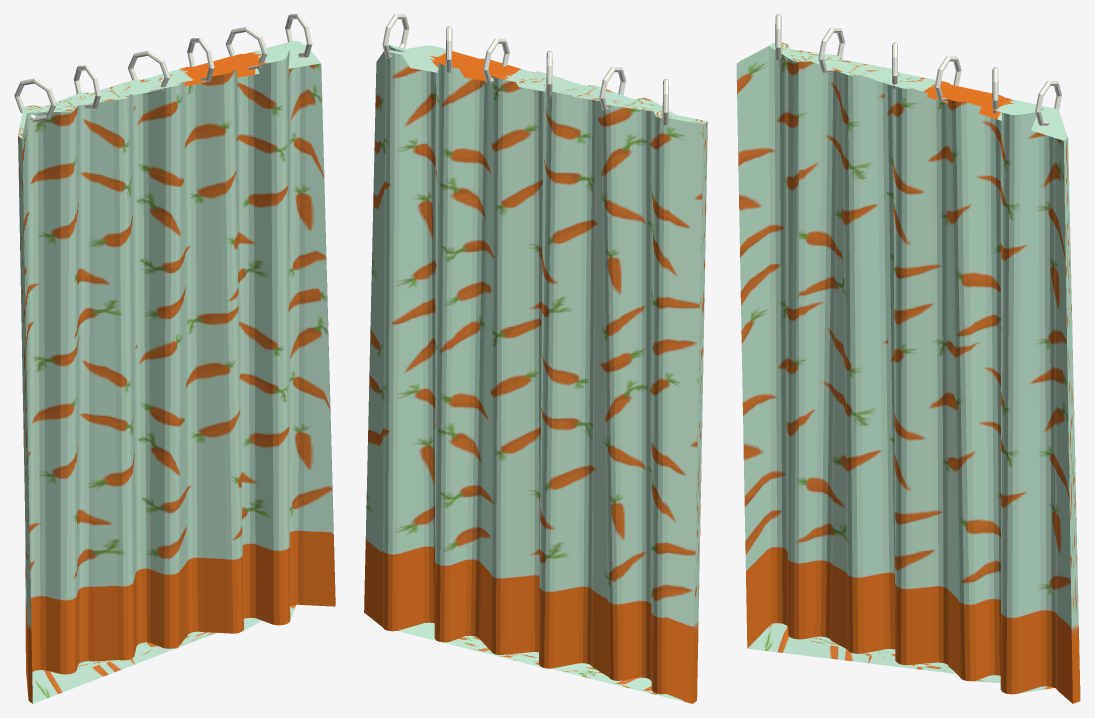
Rendered from perde1.fbx.
The picture shows the model from 3 angles, left to right: view 1: azimuth 30°, elevation 25°; view 2: azimuth 150°, elevation 25°; view 3: azimuth 330°, elevation 25°; orthographic projection. The views are drawn at different scales.
Parts seen in each view (by area): view 1: Torus.008; view 2: Torus.008; view 3: Torus.008.
Part boxes in pixels (x1=…): Torus.008: x1=14, y1=14, x2=335, y2=703; Torus.008: x1=364, y1=14, x2=707, y2=703; Torus.008: x1=736, y1=14, x2=1080, y2=703.
Bounding box in the file's own units: 385 × 53.4 × 694.
